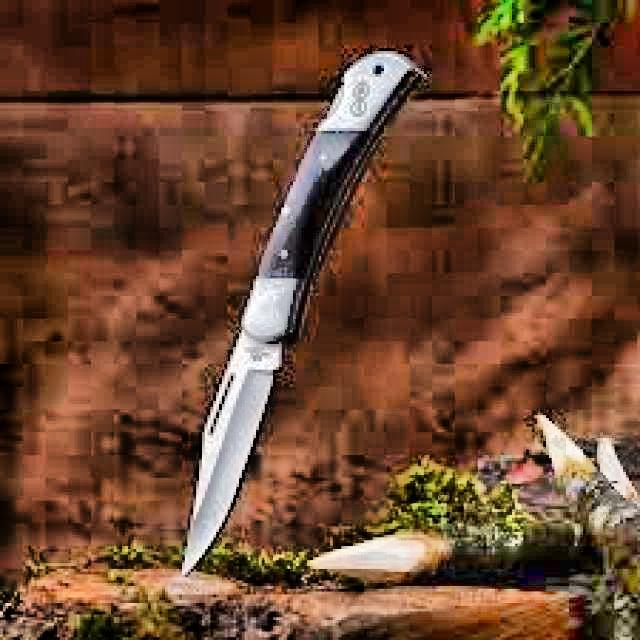knife: (154, 46, 424, 582)
